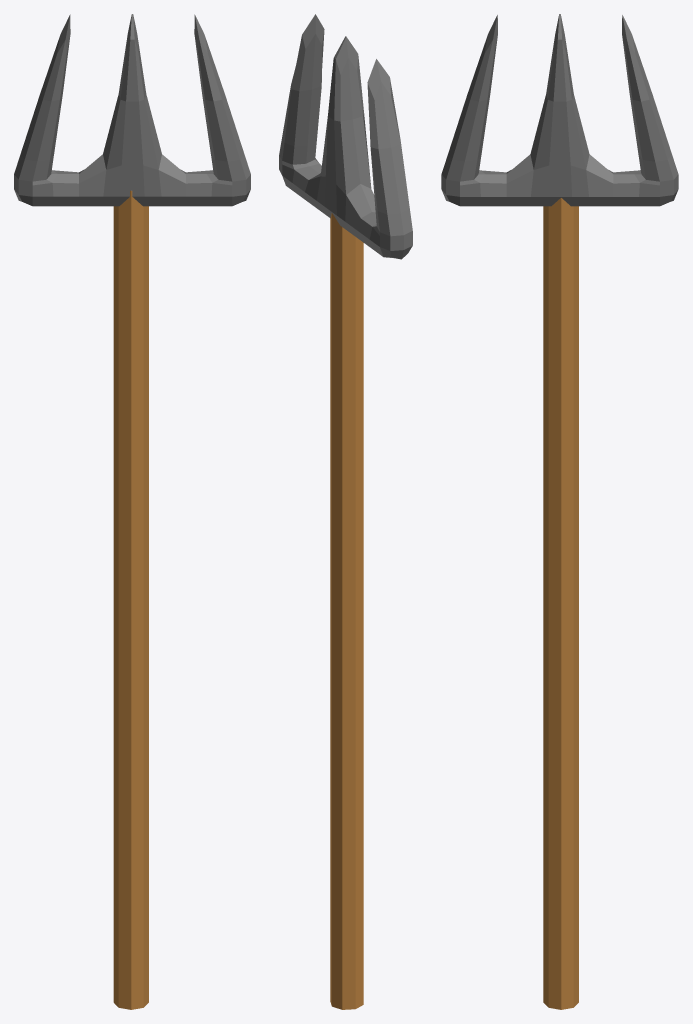
Rendered from fork.fbx.
3 renders of one model, left to right at view 1: azimuth 90°, elevation 25°; view 2: azimuth 210°, elevation 25°; view 3: azimuth 270°, elevation 25°, orthographic. The views are drawn at different scales.
Parts seen in each view (by area): view 1: Cylinder; view 2: Cylinder; view 3: Cylinder.
Boxes of the visible parts, x1=… form: Cylinder: x1=14, y1=14, x2=250, y2=1009; Cylinder: x1=279, y1=14, x2=412, y2=1009; Cylinder: x1=441, y1=14, x2=678, y2=1009.
Size of the model in its own units: 20.2 by 614 by 133.
